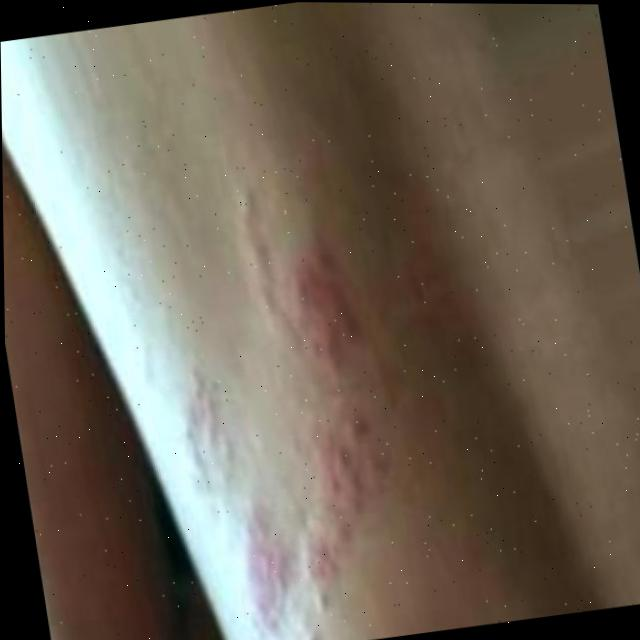Shingles: (156, 215, 486, 639)
